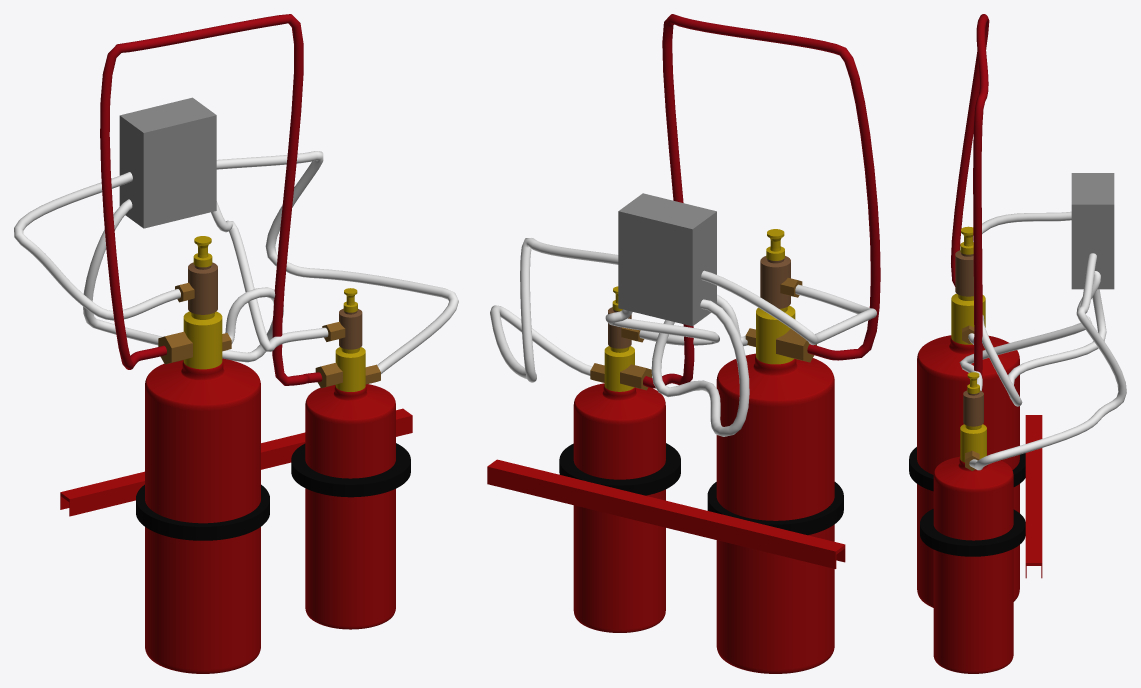
Rendered from FM200blend.fbx.
The picture shows the model from 3 angles, left to right: view 1: azimuth 30°, elevation 25°; view 2: azimuth 150°, elevation 25°; view 3: azimuth 270°, elevation 25°; orthographic projection. The views are drawn at different scales.
Parts seen in each view (by area): view 1: Cylinder, Cylinder.002, Cube.001, BézierCurve, BézierCurve.001, Cube, BézierCurve.004, BézierCurve.003, Cylinder.003, Cylinder.001, BézierCurve.002, Cylinder.004 (+4 smaller); view 2: Cylinder, Cylinder.002, Cube.001, Cube, BézierCurve, BézierCurve.001, BézierCurve.003, BézierCurve.004, Cylinder.003, Cylinder.001, BézierCurve.002, Cylinder.004 (+3 smaller); view 3: Cylinder.002, Cylinder, BézierCurve, Cube.001, BézierCurve.001, Cube, Cylinder.003, BézierCurve.003, BézierCurve.002, Cylinder.004, Cylinder.001, BézierCurve.004 (+3 smaller).
Part boxes in pixels (x1,y1,x2,y2): Cylinder: (145, 358, 260, 673); Cylinder.002: (305, 384, 395, 629); Cube.001: (119, 97, 216, 228); BézierCurve: (100, 14, 322, 385); BézierCurve.001: (216, 151, 458, 373); Cube: (60, 408, 412, 516); BézierCurve.004: (14, 172, 180, 320); BézierCurve.003: (83, 199, 283, 362); Cylinder.003: (291, 443, 410, 497); Cylinder.001: (136, 484, 269, 540); BézierCurve.002: (211, 201, 328, 351); Cylinder.004: (183, 311, 222, 369); Cylinder: (716, 353, 834, 673); Cylinder.002: (573, 383, 665, 632); Cube.001: (618, 193, 716, 326); Cube: (487, 459, 845, 568); BézierCurve: (643, 14, 880, 388); BézierCurve.001: (490, 238, 618, 382); BézierCurve.003: (651, 294, 749, 436); BézierCurve.004: (701, 270, 876, 345); Cylinder.003: (559, 443, 680, 495); Cylinder.001: (707, 482, 843, 535); BézierCurve.002: (605, 309, 719, 345); Cylinder.004: (756, 305, 795, 364); Cylinder.002: (933, 456, 1013, 673); Cylinder: (917, 335, 1019, 607); BézierCurve: (951, 14, 989, 377); Cube.001: (1071, 173, 1114, 289); BézierCurve.001: (969, 253, 1126, 470); Cube: (1025, 415, 1042, 578); Cylinder.003: (920, 509, 1025, 556); BézierCurve.003: (968, 289, 1106, 406); BézierCurve.002: (959, 271, 1100, 390); Cylinder.004: (951, 293, 985, 344); Cylinder.001: (909, 447, 1025, 491); BézierCurve.004: (973, 211, 1071, 241).
Size of the model in its own units: 903 by 1402 by 506.
